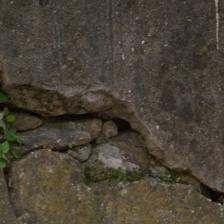Crack: (39, 45, 166, 120), (37, 78, 97, 145), (74, 22, 135, 46)
